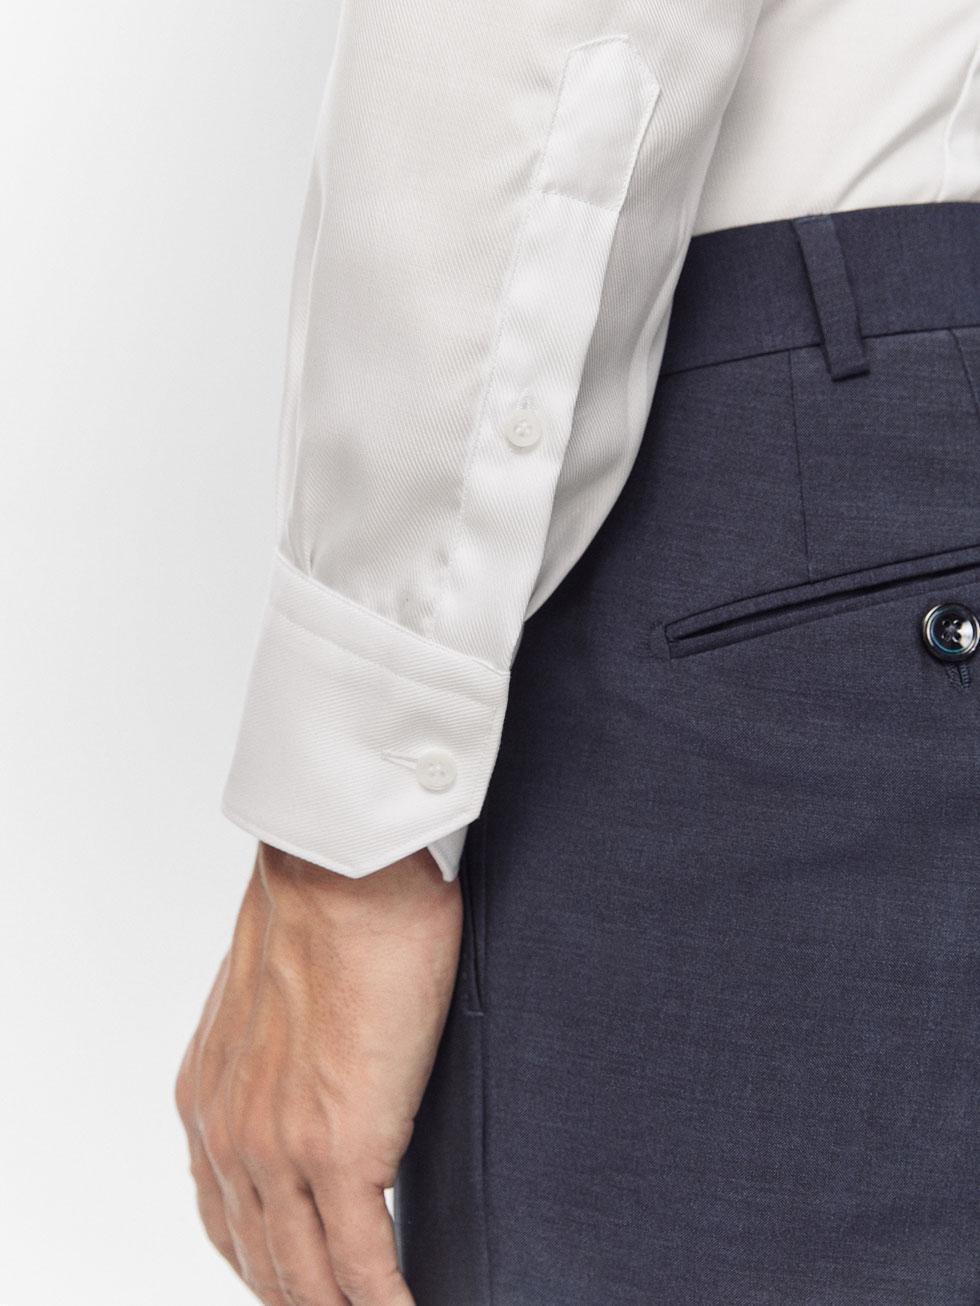teeshirt: (205, 1, 968, 864)
